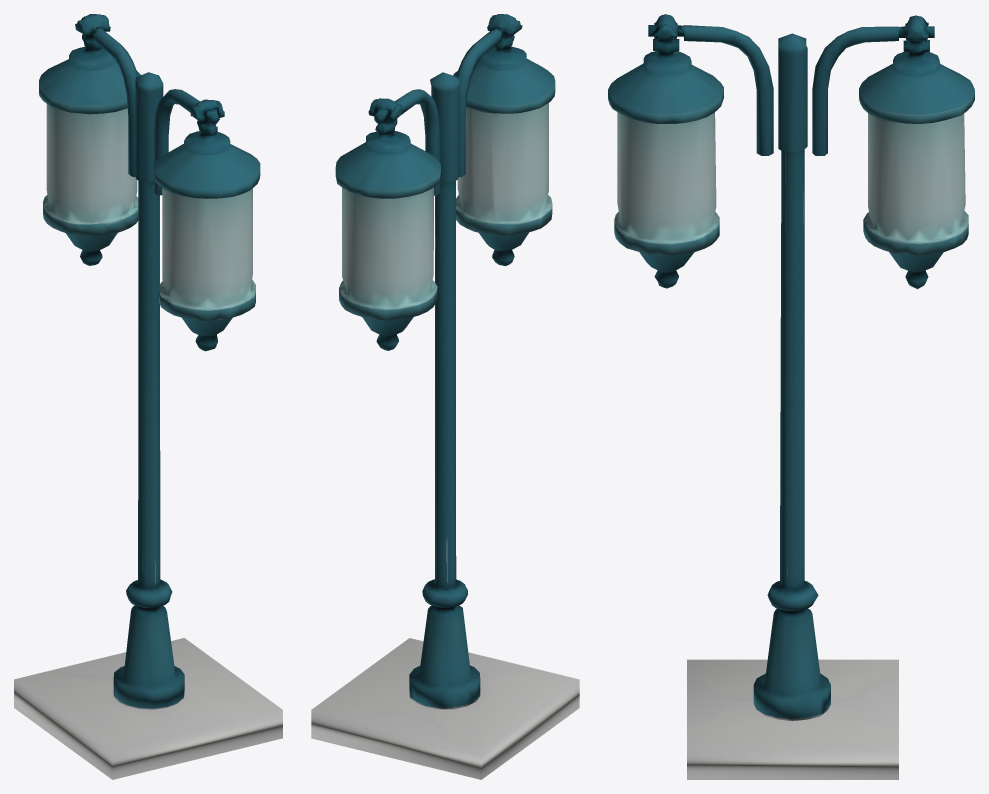
Rendered from park-lamp.glb.
3 renders of one model, left to right at view 1: azimuth 30°, elevation 25°; view 2: azimuth 150°, elevation 25°; view 3: azimuth 270°, elevation 25°, orthographic. The views are drawn at different scales.
Visible parts, largest first — view 1: tripo_node_b5c2da8f-a26b-4cd8-b515-d18091e3a399; view 2: tripo_node_b5c2da8f-a26b-4cd8-b515-d18091e3a399; view 3: tripo_node_b5c2da8f-a26b-4cd8-b515-d18091e3a399.
Boxes of the visible parts, left/top/right/bottom form: tripo_node_b5c2da8f-a26b-4cd8-b515-d18091e3a399: left=14, top=14, right=282, bottom=779; tripo_node_b5c2da8f-a26b-4cd8-b515-d18091e3a399: left=311, top=14, right=579, bottom=779; tripo_node_b5c2da8f-a26b-4cd8-b515-d18091e3a399: left=608, top=14, right=974, bottom=779.
Bounding box in the file's own units: 0.2676 × 0.998 × 0.4629.
1 material, 1 textured.
